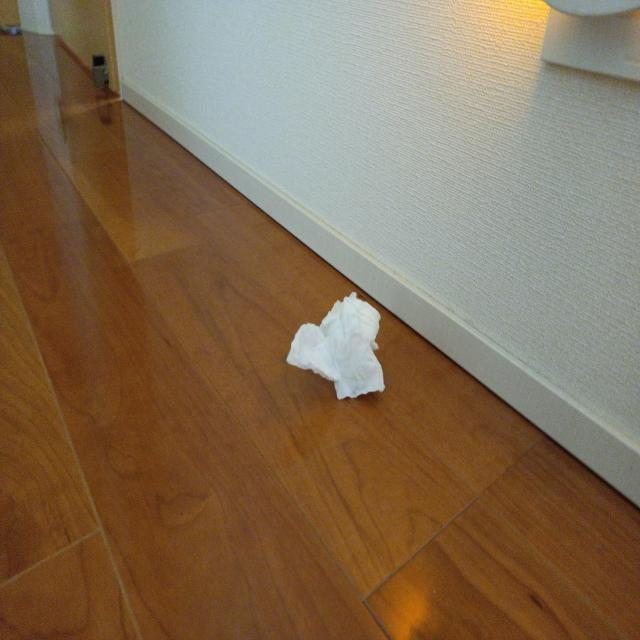Paper: (281, 283, 395, 419)
